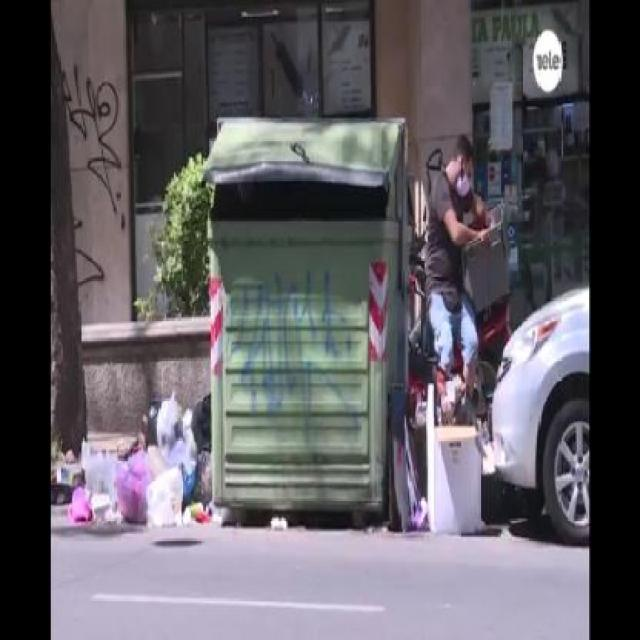garbage: (54, 380, 295, 534), (394, 388, 491, 545)
